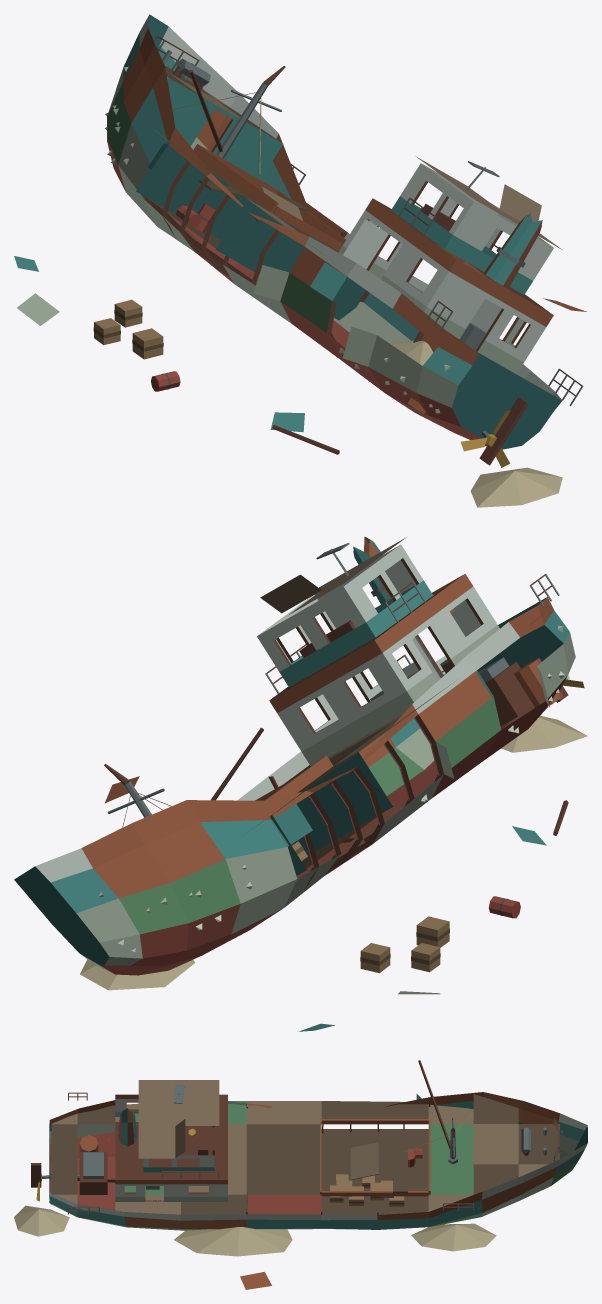
Rendered from shipwreck.glb.
The picture shows the model from 3 angles, top to bottom: view 1: azimuth 30°, elevation 25°; view 2: azimuth 150°, elevation 25°; view 3: azimuth 270°, elevation 25°; orthographic projection. The views are drawn at different scales.
Visible parts, largest first — view 1: Body; view 2: Body; view 3: Body.
Boxes of the visible parts, left/top/right/bottom form: Body: left=14, top=14, right=586, bottom=507; Body: left=14, top=536, right=587, bottom=1031; Body: left=14, top=1060, right=587, bottom=1289.
Size of the model in its own units: 18.05 by 9.22 by 30.59.
